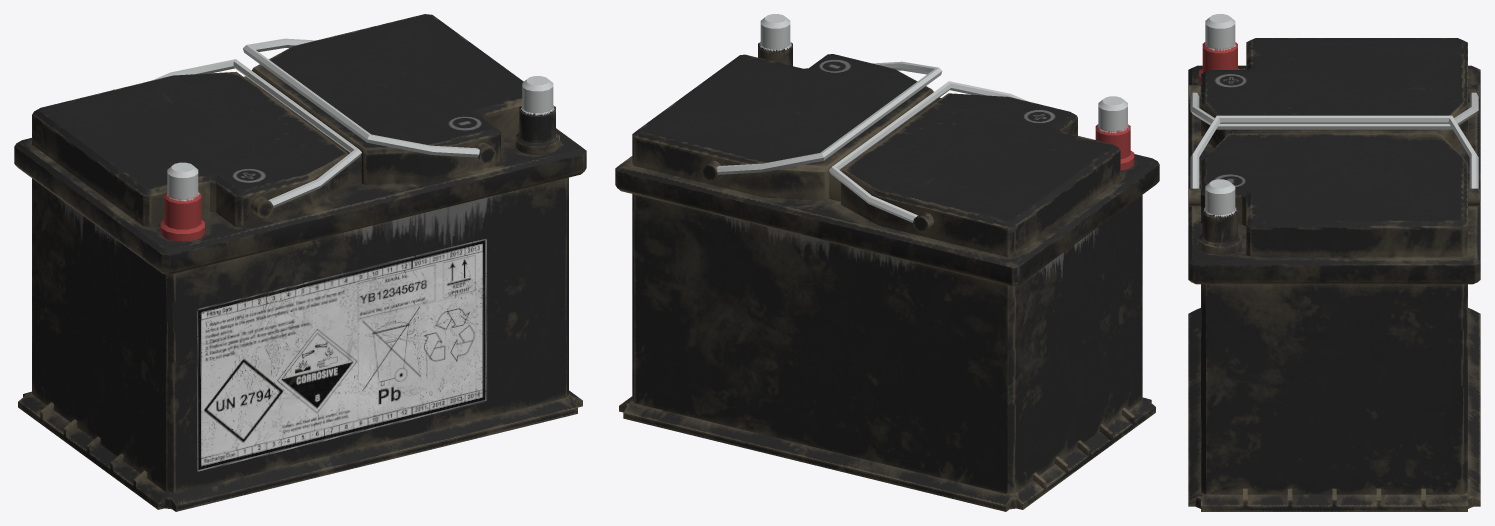
Rendered from battery.glb.
The picture shows the model from 3 angles, left to right: view 1: azimuth 30°, elevation 25°; view 2: azimuth 150°, elevation 25°; view 3: azimuth 270°, elevation 25°; orthographic projection. The views are drawn at different scales.
Parts seen in each view (by area): view 1: Mesh_Default_0; view 2: Mesh_Default_0; view 3: Mesh_Default_0.
Boxes of the visible parts, x1,y1,x2,y2 form: Mesh_Default_0: [14, 14, 586, 511]; Mesh_Default_0: [615, 14, 1159, 511]; Mesh_Default_0: [1188, 14, 1480, 511].
Bounding box in the file's own units: 52.9 × 38.88 × 33.
1 material, 1 textured.
